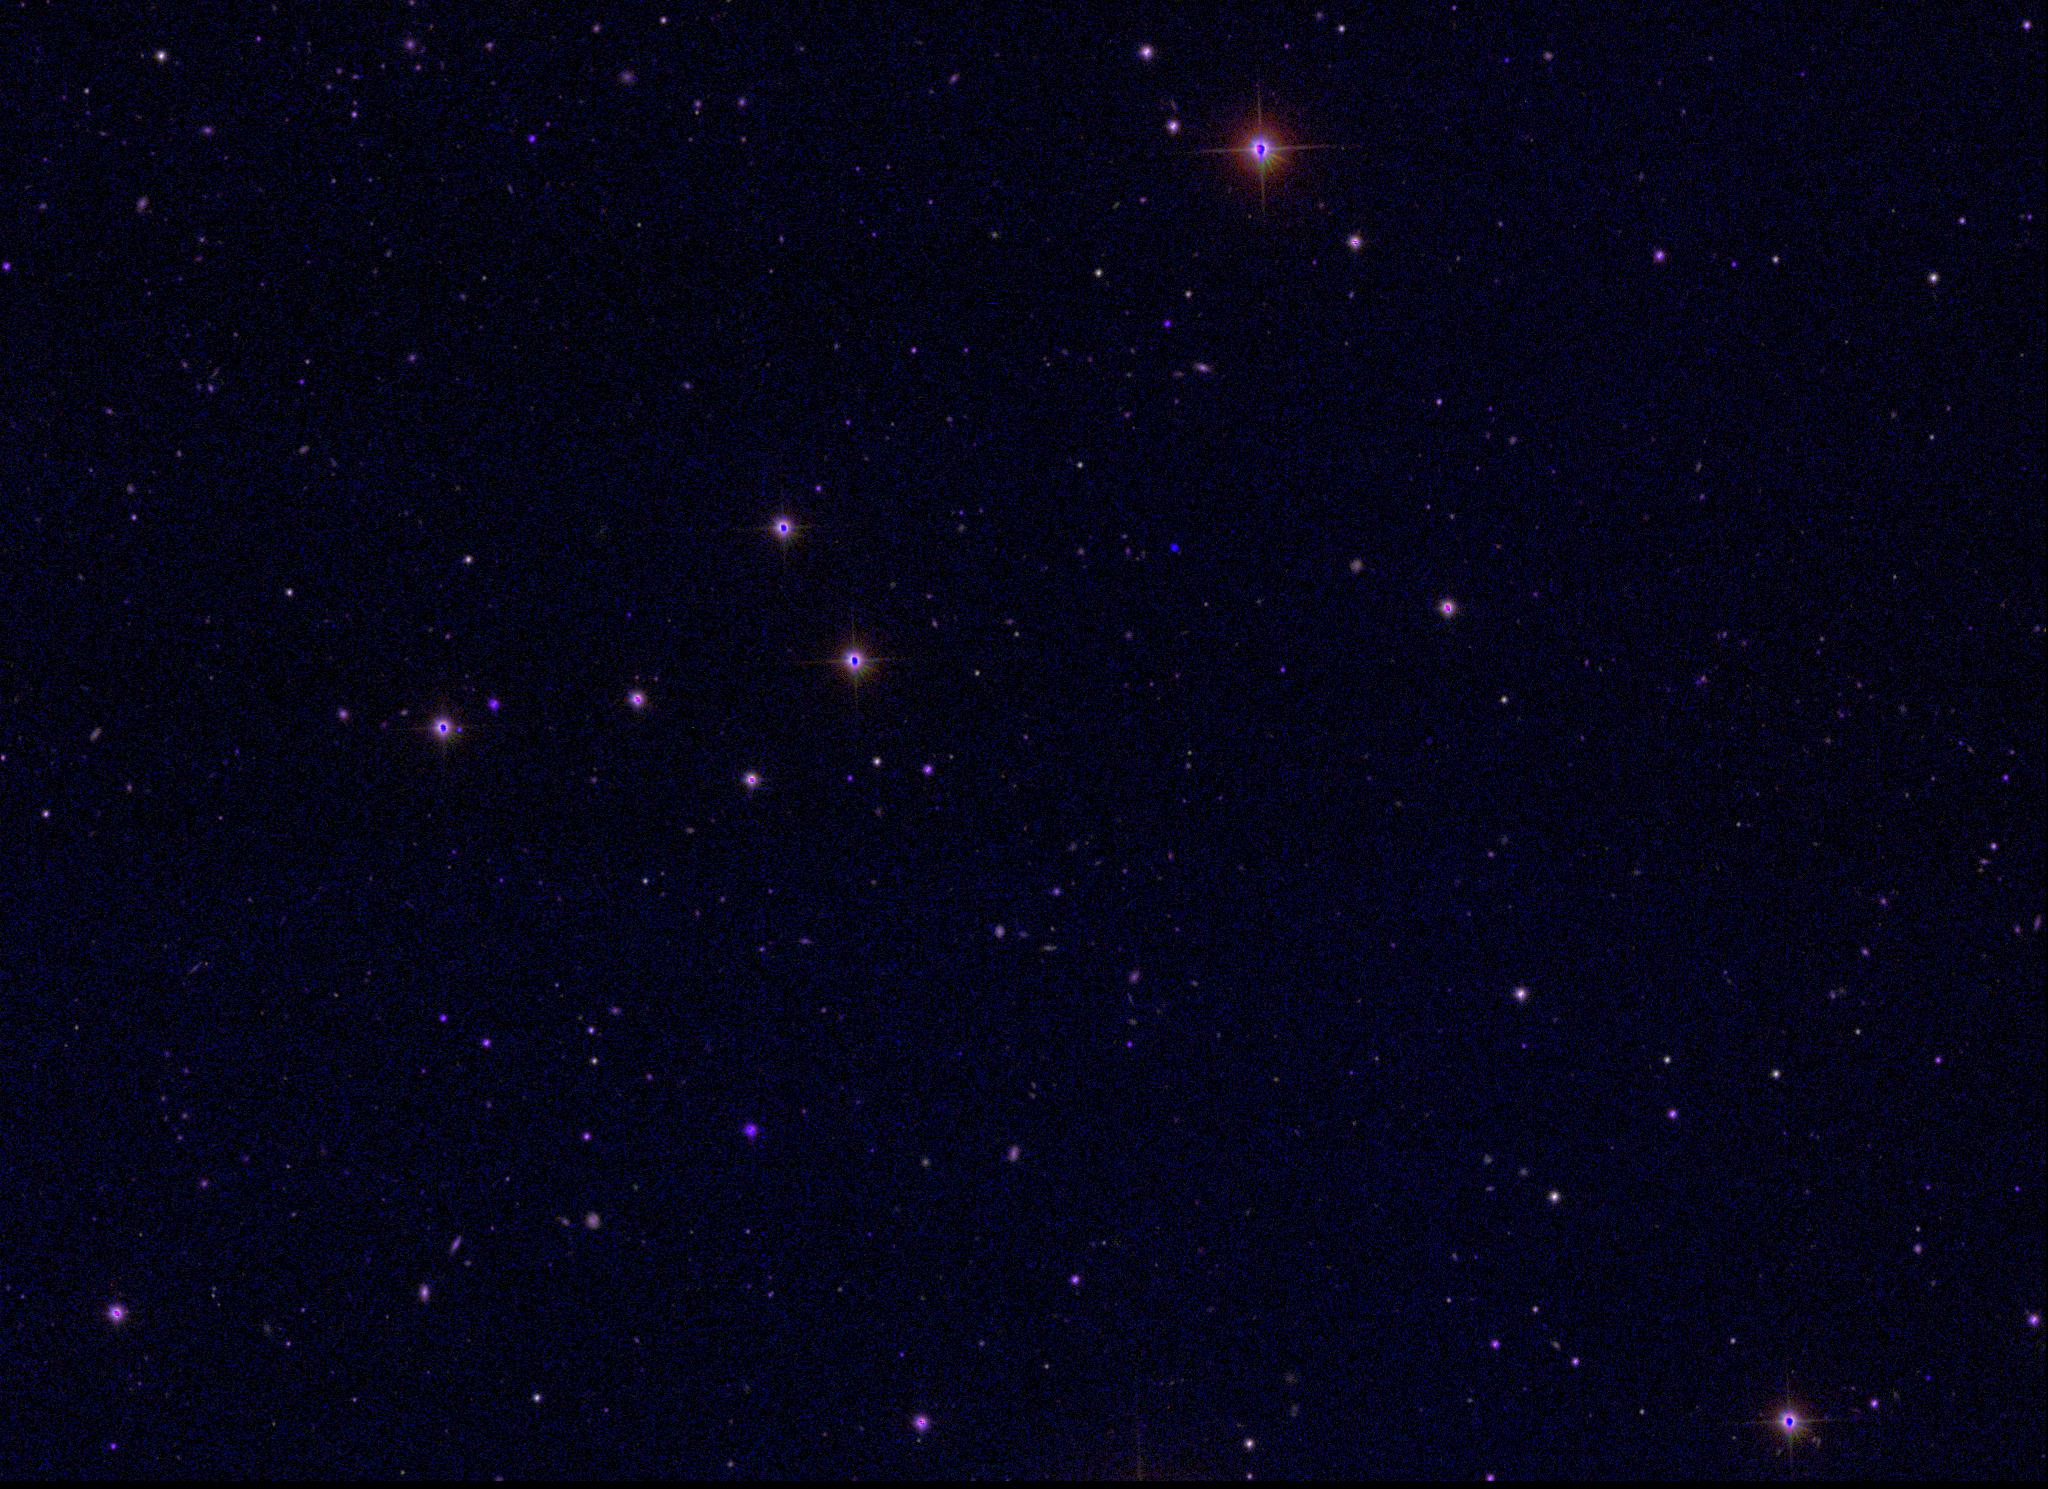L: (1169, 538, 1181, 550)
